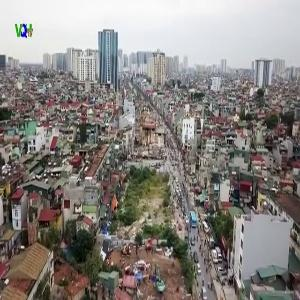drone: (182, 146, 250, 214)
